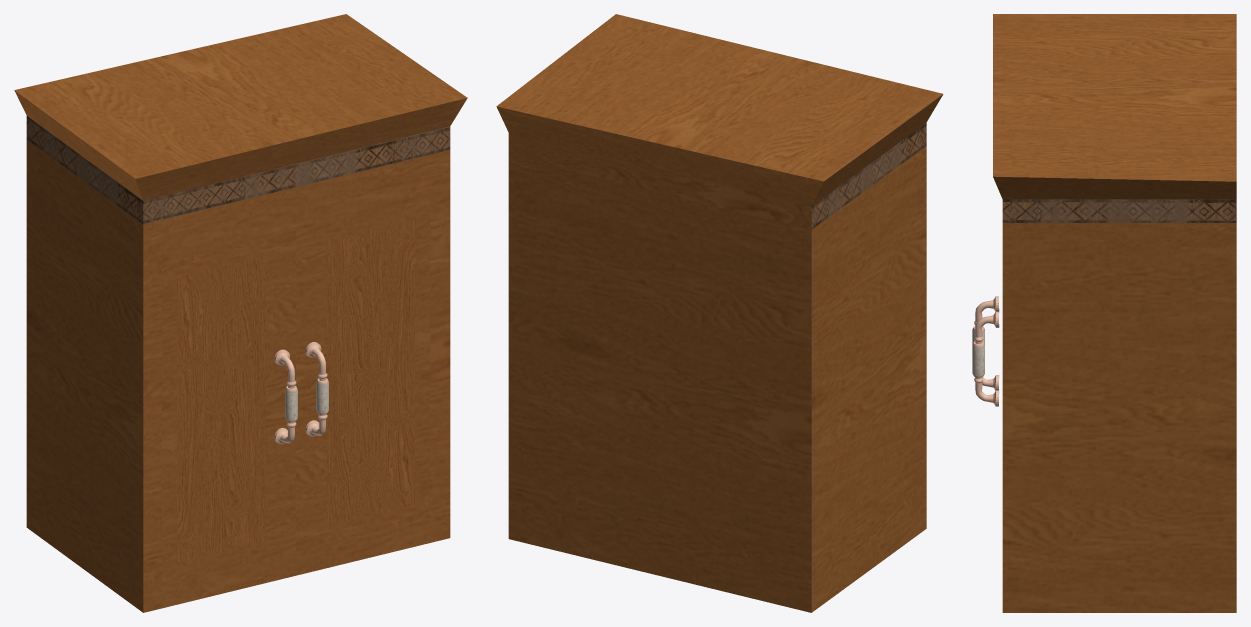
Rendered from TopCabinet.fbx.
3 views of the same model, side by side, from view 1: azimuth 30°, elevation 25°; view 2: azimuth 150°, elevation 25°; view 3: azimuth 270°, elevation 25° (orthographic).
Visible parts, largest first — view 1: pCube24, pCube13, pCube195, pCube194, pCylinder110, pCylinder109; view 2: pCube24, pCube13; view 3: pCube24, pCube13, pCylinder109, pCylinder110.
Boxes of the visible parts, x1,y1,x2,y2 form: pCube24: [26, 158, 450, 612]; pCube13: [14, 14, 467, 243]; pCube195: [162, 230, 295, 584]; pCube194: [296, 198, 429, 551]; pCylinder110: [274, 349, 297, 444]; pCylinder109: [305, 342, 328, 436]; pCube24: [508, 165, 926, 612]; pCube13: [496, 14, 943, 248]; pCube24: [1002, 242, 1236, 612]; pCube13: [993, 14, 1236, 241]; pCylinder109: [972, 311, 999, 406]; pCylinder110: [972, 296, 999, 390].
Size of the model in its own units: 0.9003 by 1.14 by 0.618.
